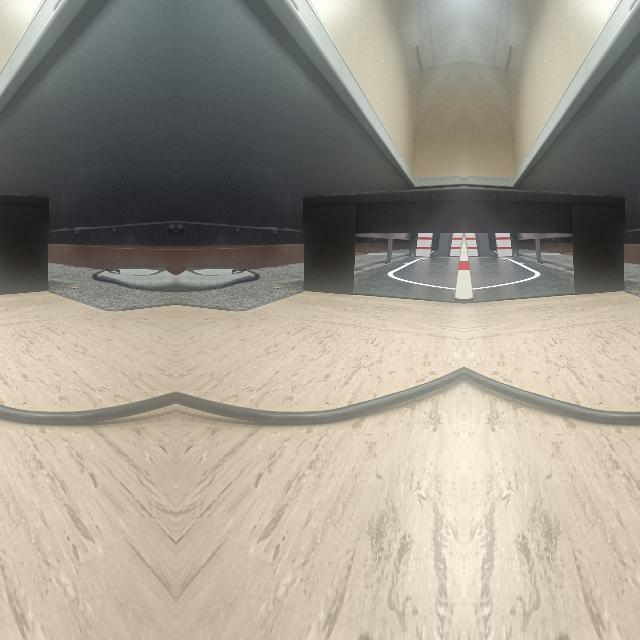obstacle: (176, 368, 460, 428), (0, 368, 174, 428), (467, 368, 640, 428)
